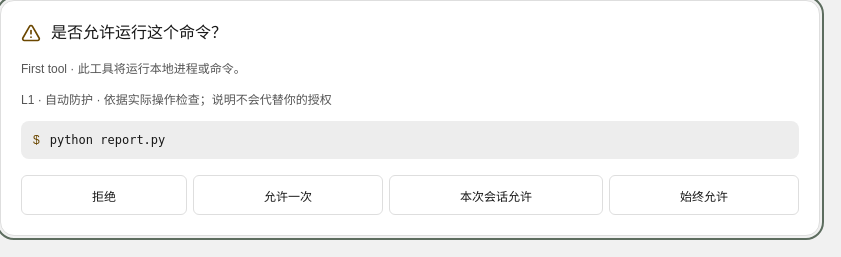
Scenario: PermissionPromptHost › replaces the matching Composer and restores its draft after approval
Expected: the text "First tool" is shown, [21,62,67,76]
Click the button "允许一次" at x=288, y=195, box [193,175,383,215]
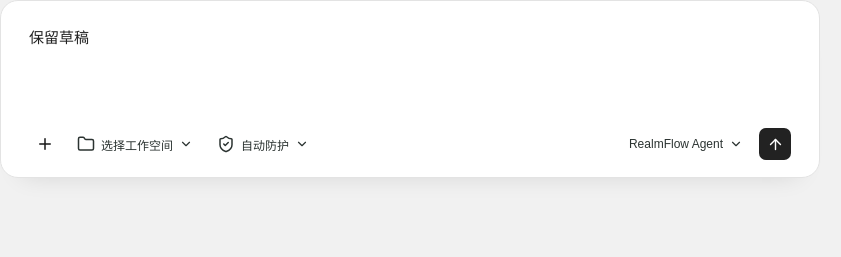
Expected: the text box holds "保留草稿", [29,26,791,124]
